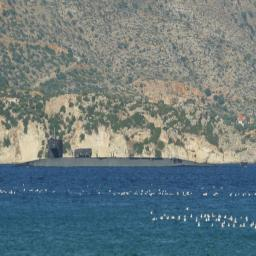submarine: (18, 135, 213, 168)
